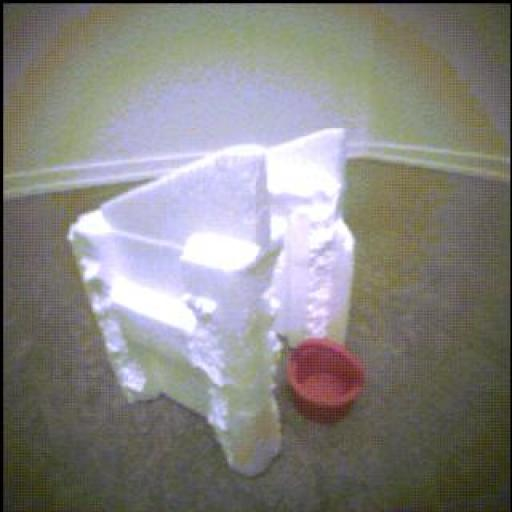Bucket: (287, 339, 366, 424)
